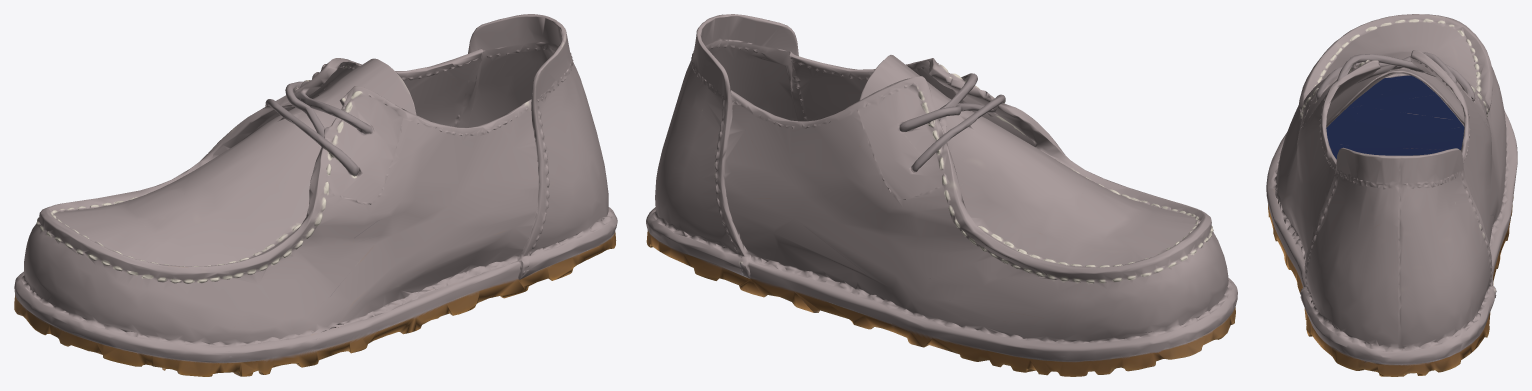
Rendered from shoe.glb.
The picture shows the model from 3 angles, left to right: view 1: azimuth 30°, elevation 25°; view 2: azimuth 150°, elevation 25°; view 3: azimuth 270°, elevation 25°; orthographic projection. The views are drawn at different scales.
Parts seen in each view (by area): view 1: output_unwrapped; view 2: output_unwrapped; view 3: output_unwrapped.
Boxes of the visible parts, x1,y1,x2,y2 form: output_unwrapped: (14, 14, 617, 376); output_unwrapped: (646, 14, 1237, 376); output_unwrapped: (1266, 14, 1517, 376).
Size of the model in its own units: 0.3985 by 0.15 by 0.1631.
Materials: 1 (1 with a texture image).
